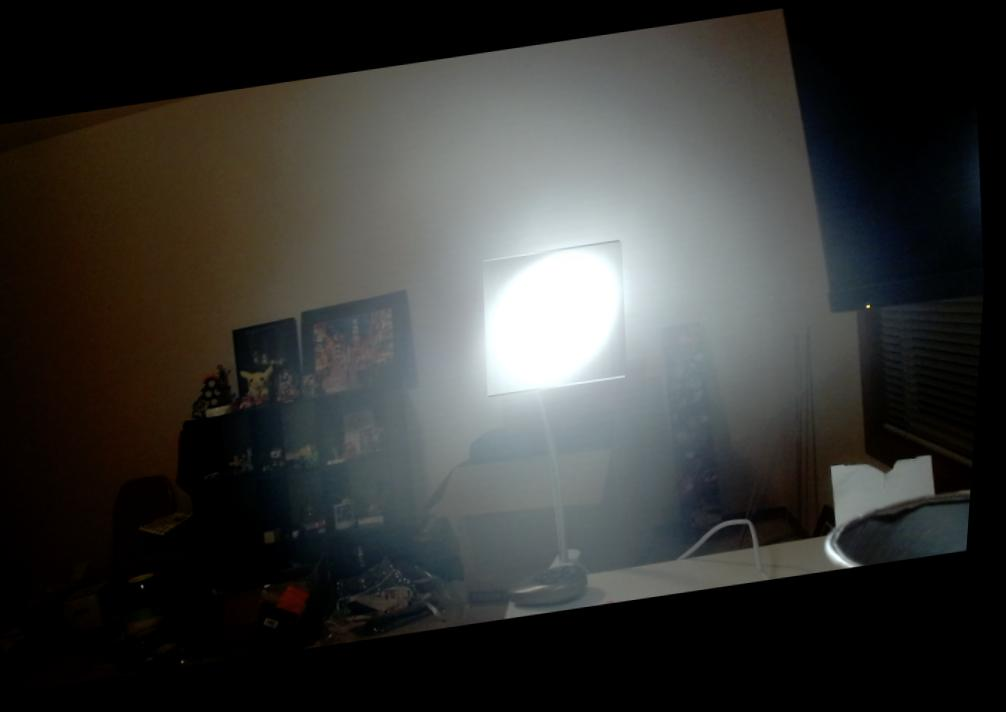TubeLight: (479, 245, 639, 402)
